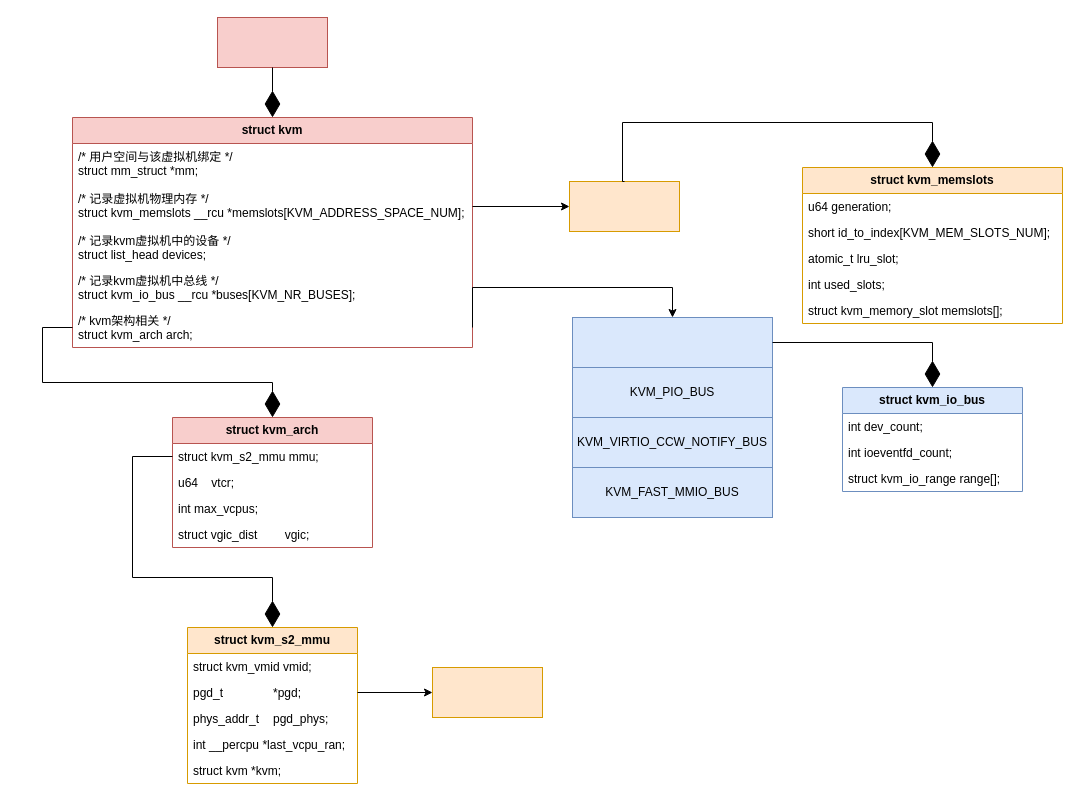
Some shapes in this 1080 by 804 pixel diagram are drawn without their labels. The shapes that lost their labels are listed below. From the top down, each one's centre as x and y in pixels, then its label:
point 272,42: kvm
point 624,206: memslots
point 672,342: KVM_MMIO_BUS
point 487,692: stage2 pgd
